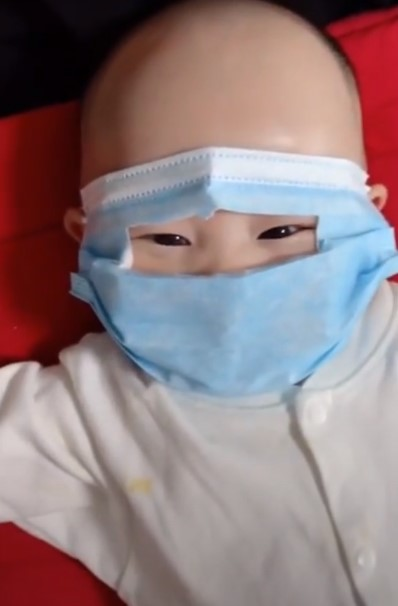face_with_mask: (63, 6, 397, 398)
